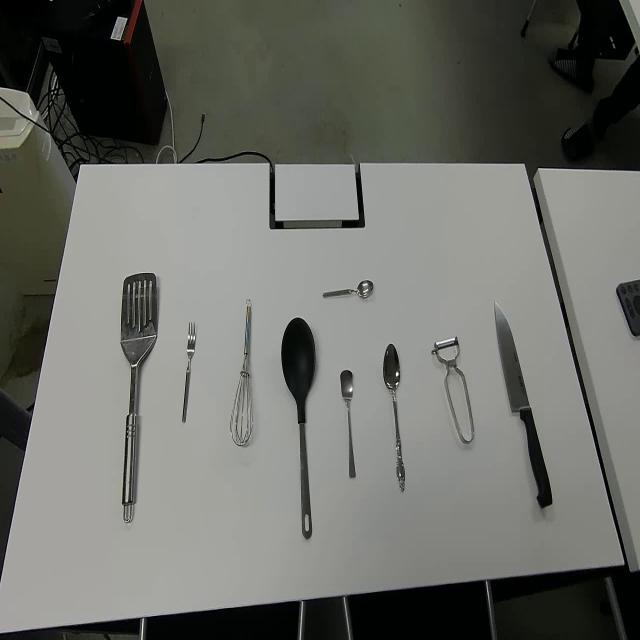Desert-Spoon: (382, 342, 406, 491)
Dinner-Fork: (182, 319, 196, 425)
Kitchen-Knife: (493, 300, 554, 508)
Peeler: (430, 335, 475, 443)
Serving-Spoon: (119, 270, 158, 522), (280, 315, 316, 540)
Tea-Spoon: (339, 367, 357, 479), (322, 276, 374, 303)
Whisk: (230, 296, 254, 446)
